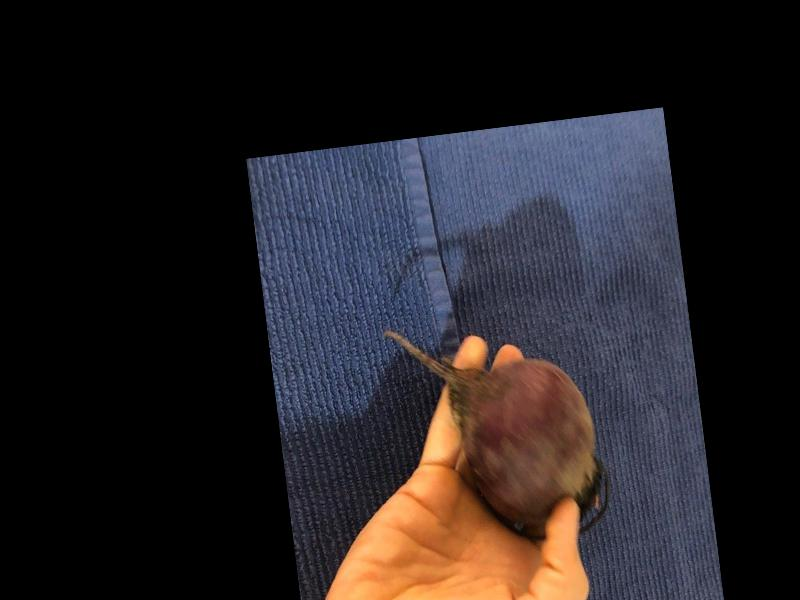Beet: (382, 304, 615, 555)
